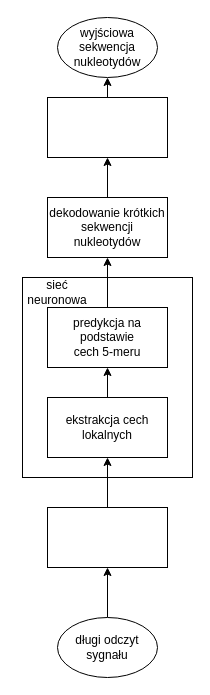
Some shapes in this 210 by 695 pixel diagram are drawn without their labels. The centre of each missing label's shape, as x and y in pixels:
podział na krótkie fragmenty sygnału: the point at 107,537
utworzenie konsensus krótkich sekwencji: the point at 107,127
